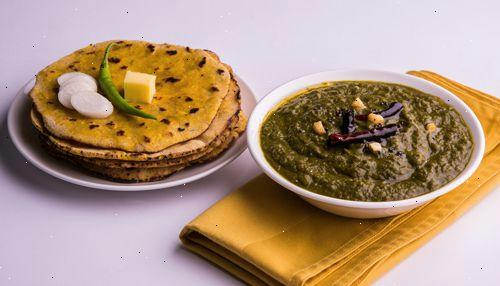saag: (262, 80, 474, 203)
